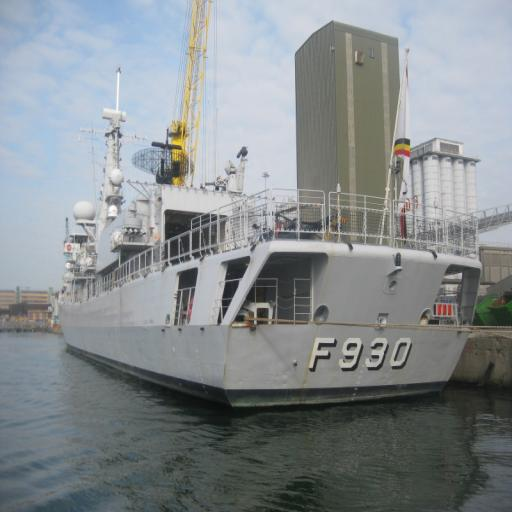Fragata: (53, 45, 485, 422)
